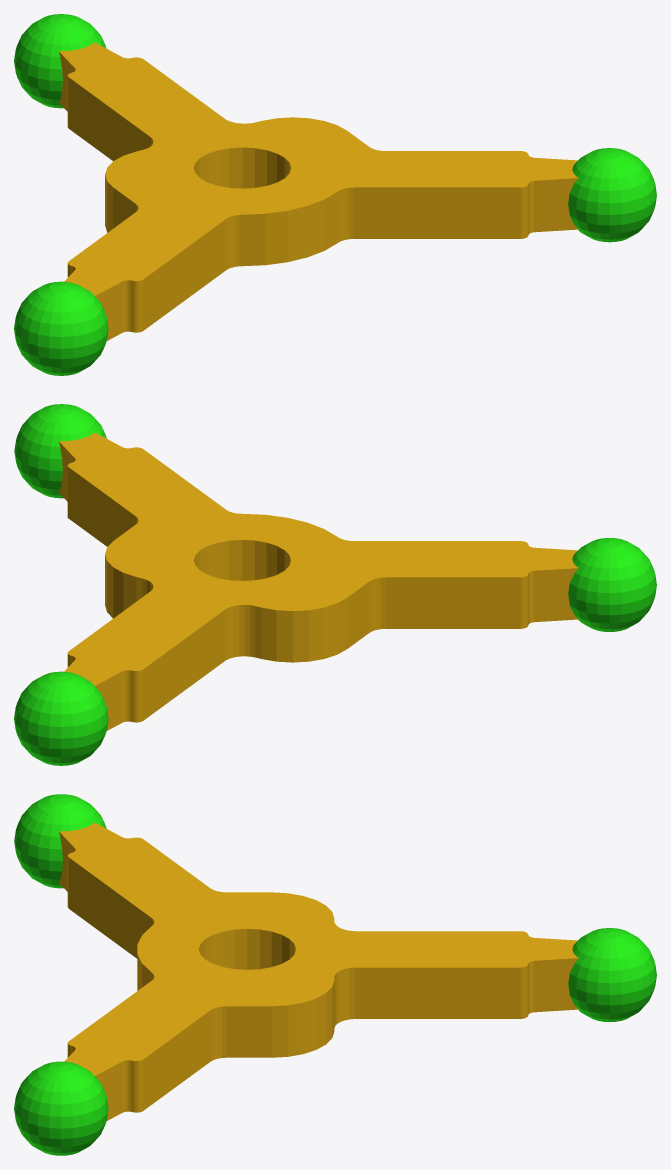
The model's file is star3u.fbx.
3 renders of one model, top to bottom at view 1: azimuth 30°, elevation 25°; view 2: azimuth 150°, elevation 25°; view 3: azimuth 270°, elevation 25°, orthographic.
Visible parts, largest first — view 1: star_3_u, c2, c1, c0; view 2: star_3_u, c0, c2, c1; view 3: star_3_u, c1, c0, c2.
Boxes of the visible parts, x1,y1,x2,y2 form: star_3_u: (58,42,578,340); c2: (14,281,108,375); c1: (568,148,656,242); c0: (14,14,106,108); star_3_u: (58,432,578,730); c0: (14,671,108,765); c2: (568,538,656,631); c1: (14,404,106,498); star_3_u: (59,822,578,1120); c1: (14,1061,108,1155); c0: (568,928,656,1022); c2: (14,794,106,888).
Bounding box in the file's own units: 38.45 × 5 × 33.99.
